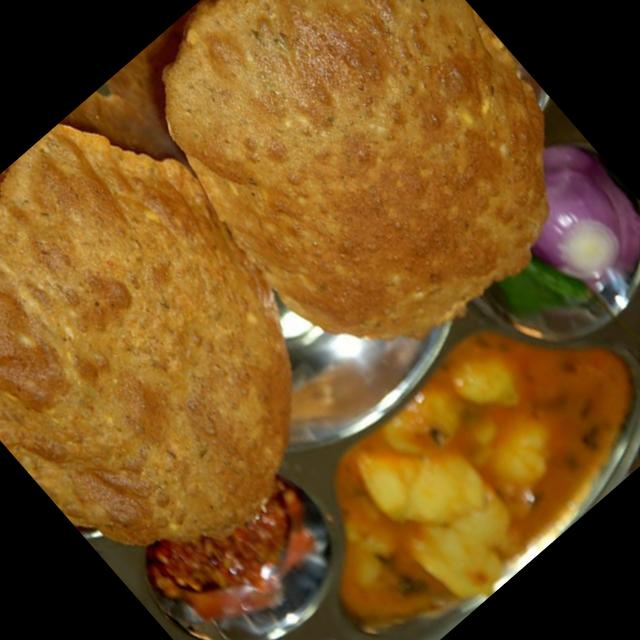Bhatura: (0, 0, 631, 611)
